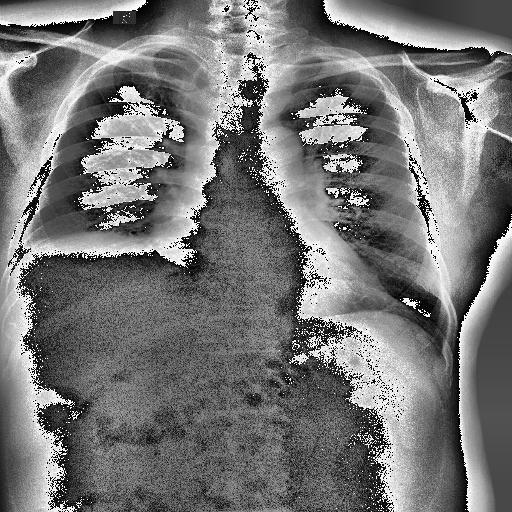10- Pleural effusion: (17, 240, 39, 258)
11- Pleural thickening: (17, 240, 39, 258)
3- Cardiomegaly: (155, 221, 382, 311), (138, 233, 392, 313)
7- Lung Opacity: (3, 230, 203, 344)
9- Other lesion: (3, 230, 203, 344)
